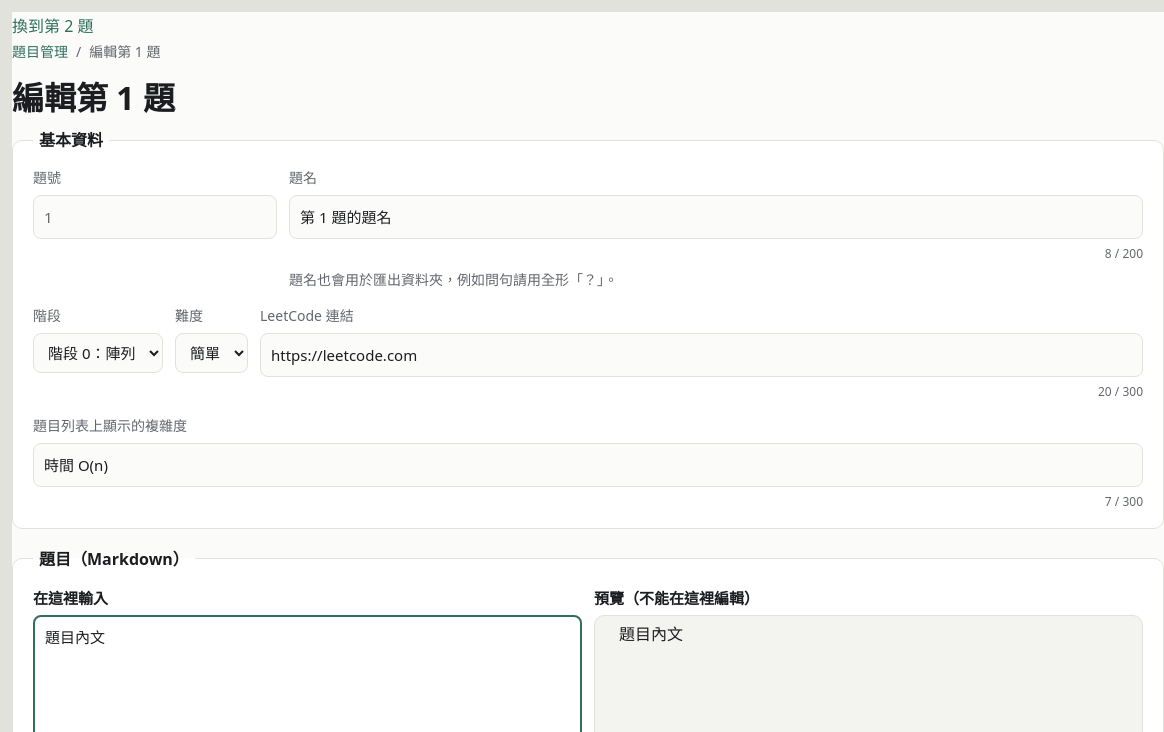
Test: 從第 1 題的編輯頁換到第 2 題時，表單換成第 2 題的內容
Check: the field showing "第 1 題的題名" is shown, box [289, 195, 1143, 239]
What coordinates should you click on to do the following:
click the link "換到第 2 題"
I would click on:
 (53, 26)
Its box is [12, 15, 94, 37].
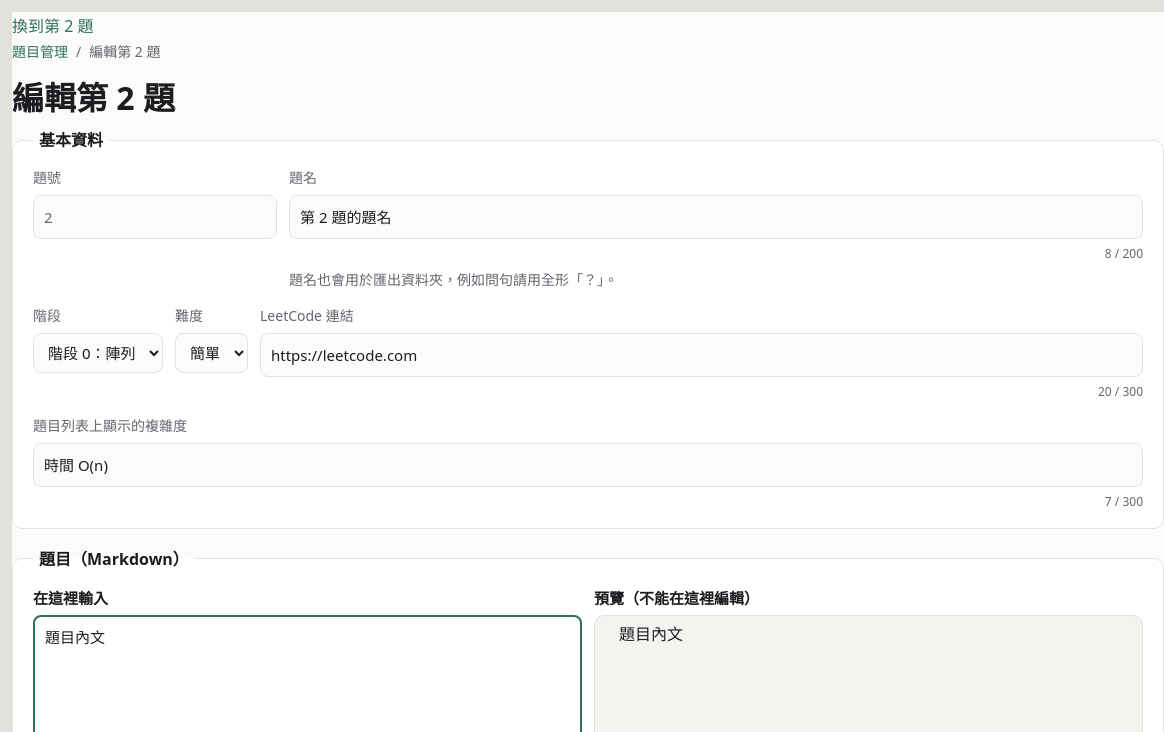
Check: the field showing "第 1 題的題名" is not shown
Check: the field showing "第 2 題的題名" is shown, box [289, 195, 1143, 239]
